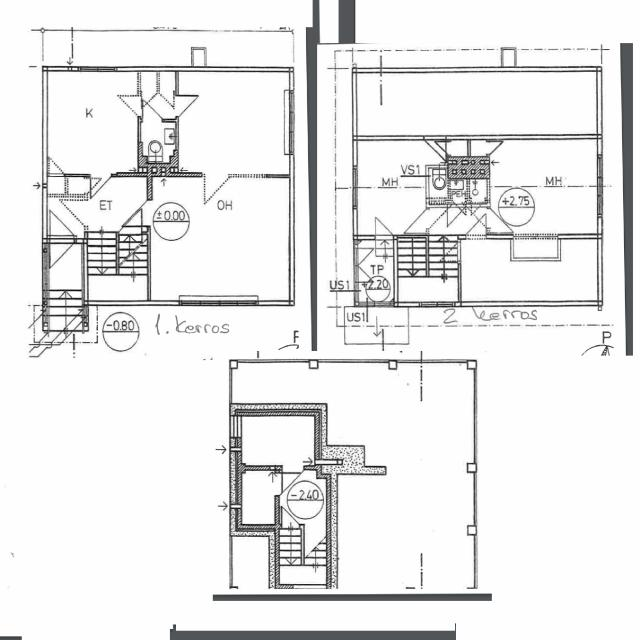door: (122, 200, 152, 227), (50, 212, 74, 243), (50, 238, 74, 268), (486, 209, 512, 232), (120, 208, 142, 234), (274, 473, 299, 495), (403, 210, 428, 232), (282, 466, 303, 492), (424, 136, 445, 162), (465, 213, 485, 239), (90, 174, 111, 198), (175, 95, 198, 116), (142, 98, 162, 122), (281, 506, 299, 530), (447, 204, 465, 226), (375, 218, 392, 240), (486, 141, 502, 155), (434, 142, 450, 154)
